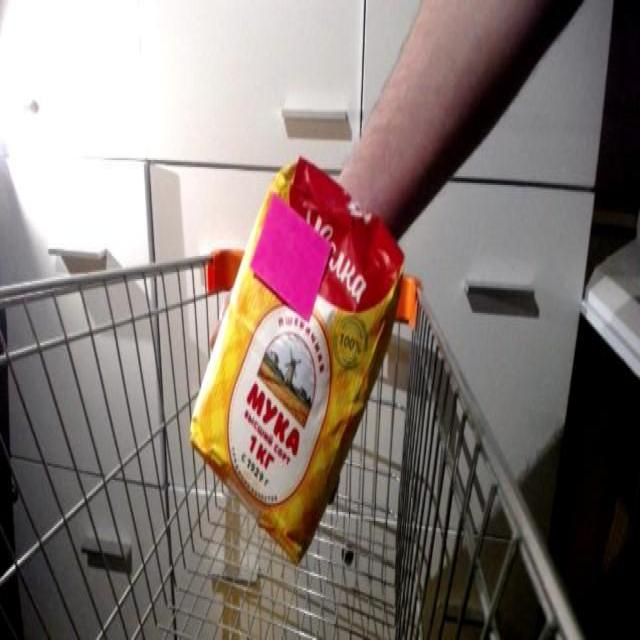Almond Milk: (183, 149, 409, 578)
